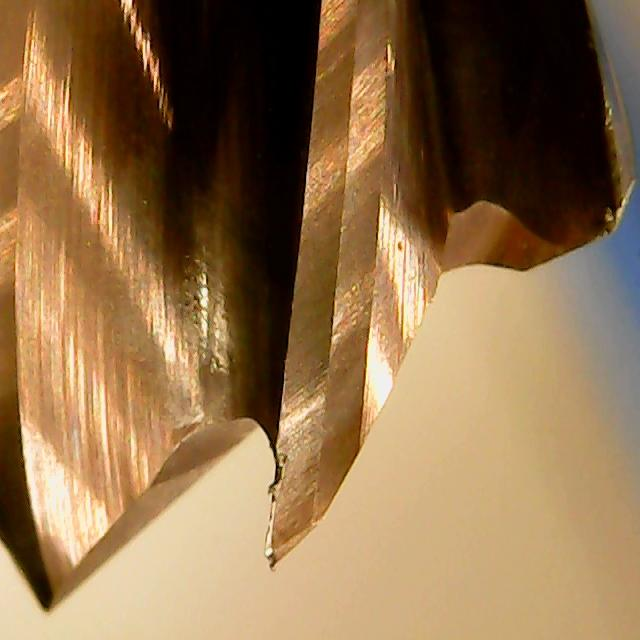Tool-wear-class-1: (255, 353, 372, 572)
